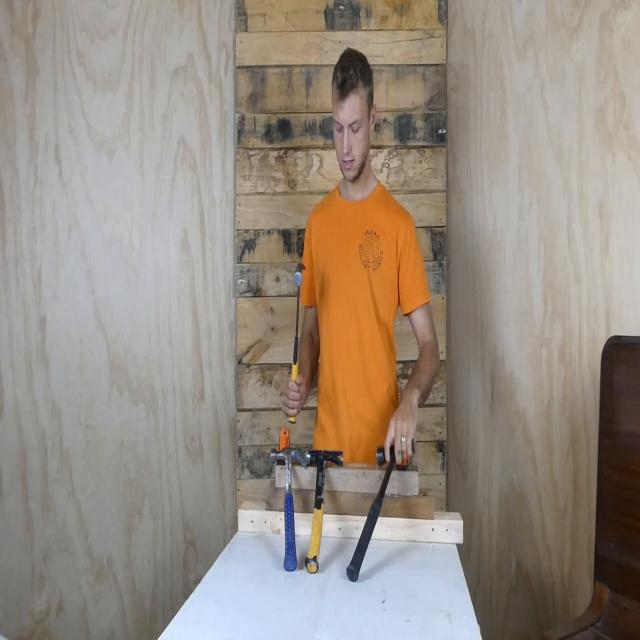hammer: (346, 439, 415, 582), (304, 447, 344, 573), (269, 446, 308, 573), (287, 263, 306, 423)
